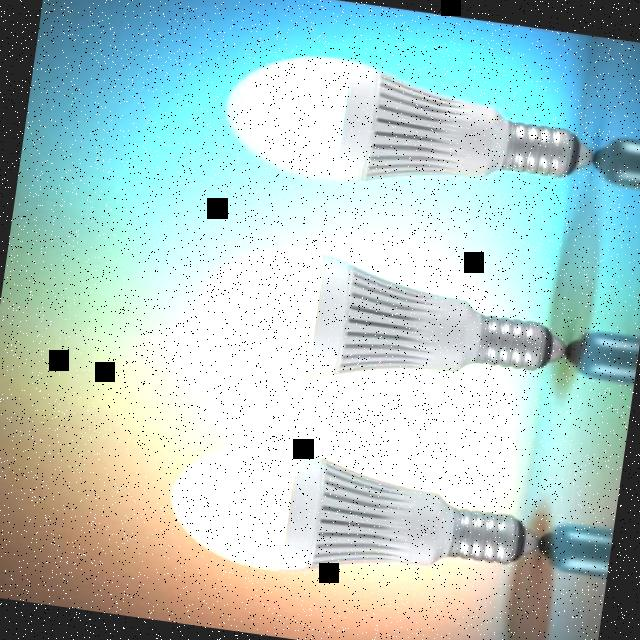light_bulb: (138, 419, 558, 617), (160, 227, 584, 423), (190, 34, 621, 225)
